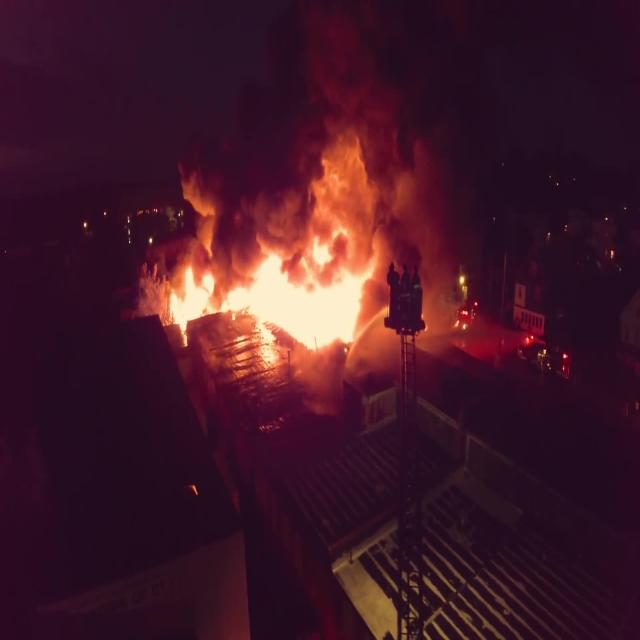Fire: (171, 244, 376, 374)
Smoke: (147, 0, 517, 329)
